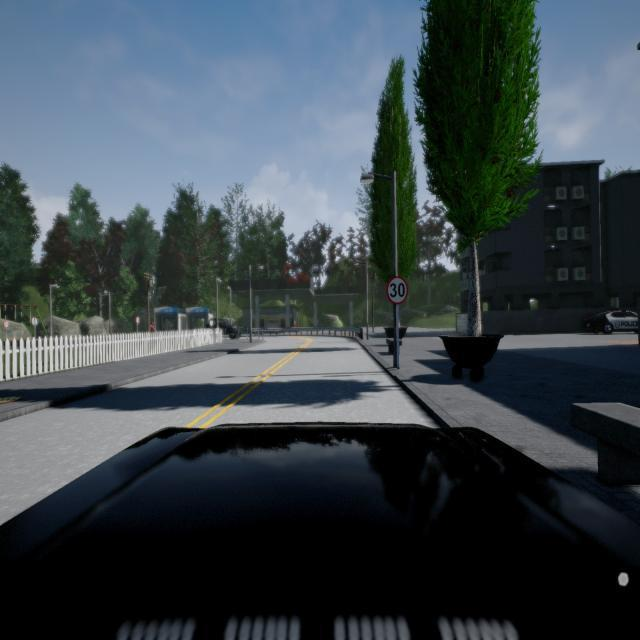Speed Limit -30-: (386, 275, 409, 305)
